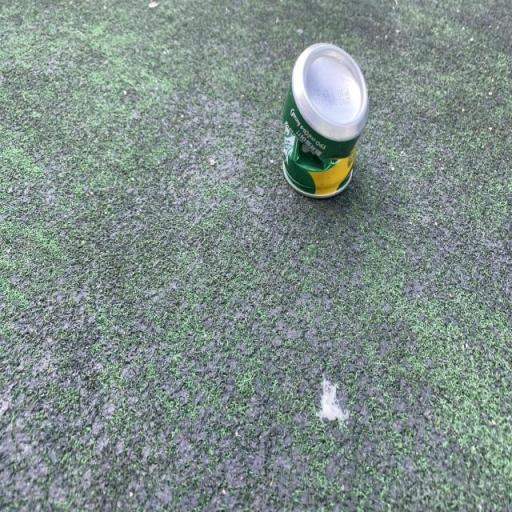metal: (267, 31, 375, 222)
